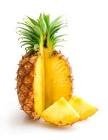Pineapple: (15, 12, 76, 124)
